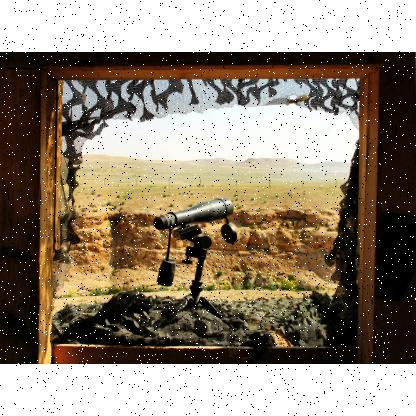gun: (150, 182, 246, 312)
